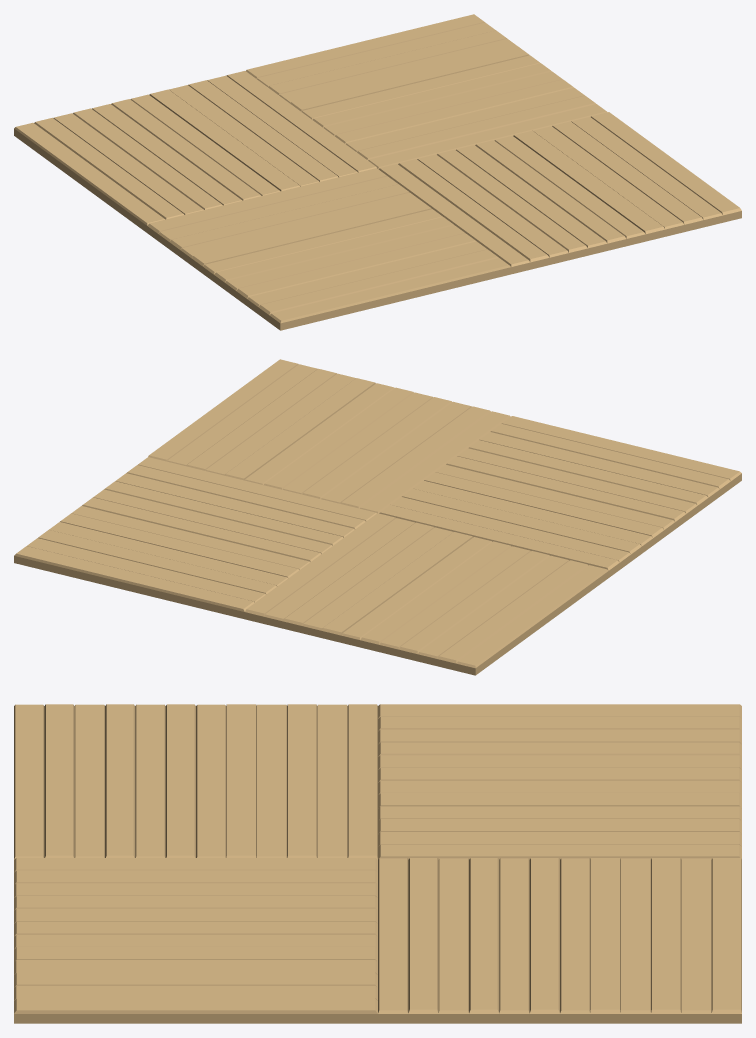
Rendered from Fishbone_Floor.fbx.
The picture shows the model from 3 angles, top to bottom: view 1: azimuth 30°, elevation 25°; view 2: azimuth 150°, elevation 25°; view 3: azimuth 270°, elevation 25°; orthographic projection. The views are drawn at different scales.
Parts seen in each view (by area): view 1: Fishbone_Floor; view 2: Fishbone_Floor; view 3: Fishbone_Floor.
Part boxes in pixels (x1,y1,x2,y2): Fishbone_Floor: (14,14,741,330); Fishbone_Floor: (14,359,741,675); Fishbone_Floor: (14,704,741,1023).
Size of the model in its own units: 200 by 3.97 by 200.
1 material, 1 textured.
